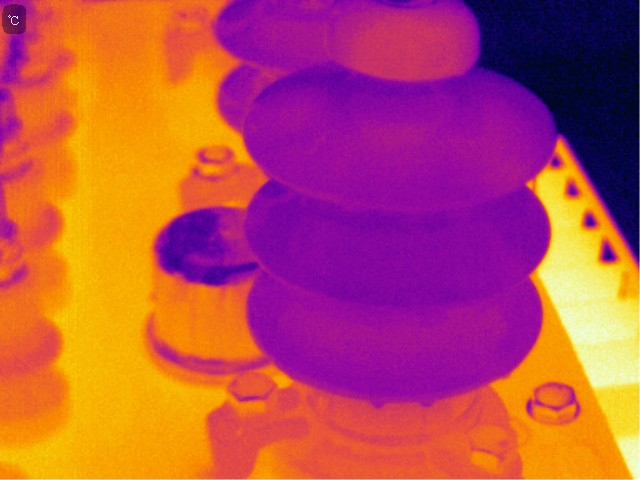Oil: (326, 1, 480, 81), (455, 107, 528, 189), (352, 113, 440, 168), (270, 94, 342, 157), (267, 180, 304, 216), (418, 393, 435, 410), (370, 394, 386, 411)
